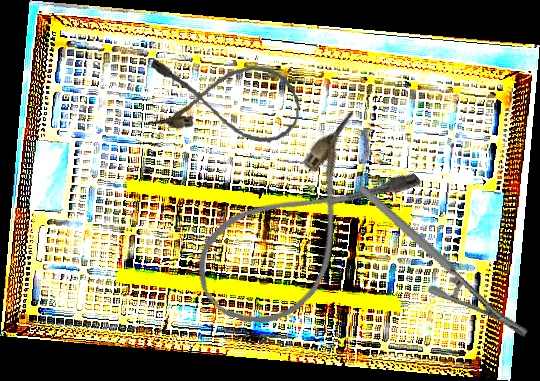Cannula: (177, 104, 429, 350), (143, 53, 305, 147)
Needle Holder: (357, 148, 531, 373)
